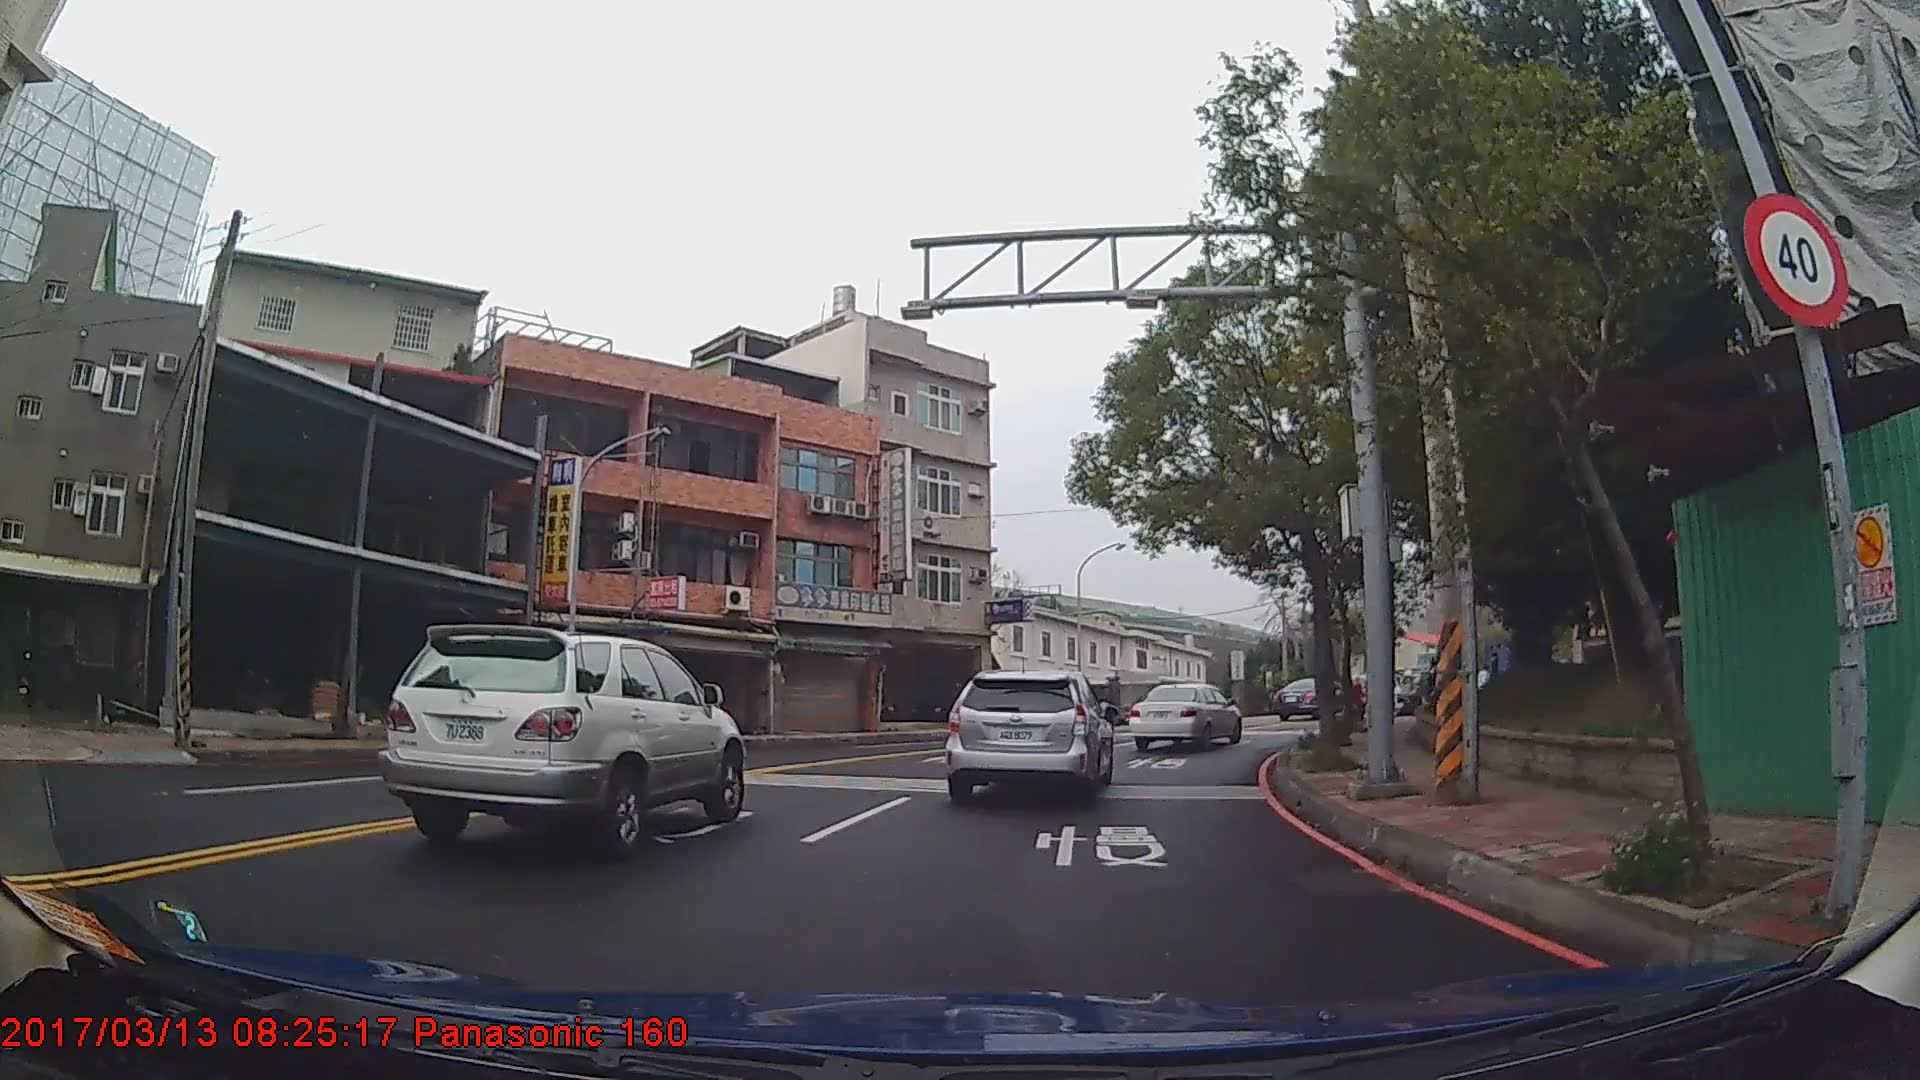vehicle: (376, 624, 748, 862), (943, 669, 1114, 804), (1127, 683, 1244, 752), (1269, 676, 1341, 721)
